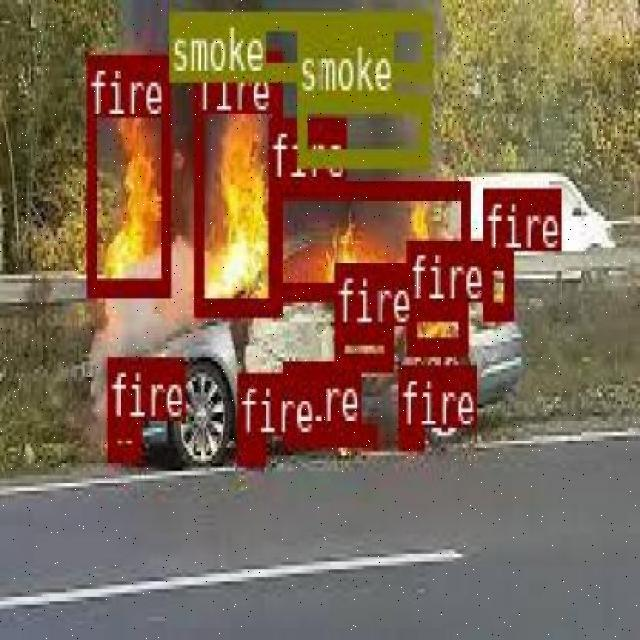Smoke: (168, 11, 432, 75), (326, 93, 393, 161)
